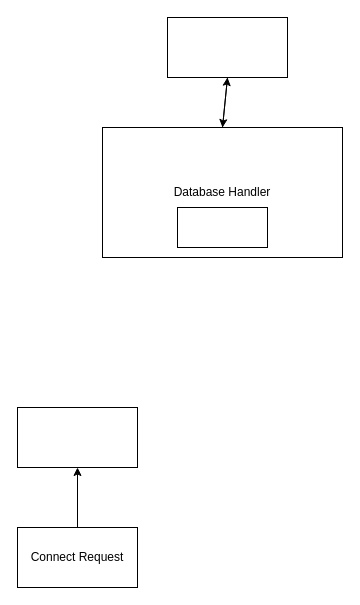
Image size: 360x605. Some labels were removed from this diagram. The centre of each missing label's shape, as x and y in pixels:
Files: (x=227, y=47)
TCP Listener: (x=77, y=437)
